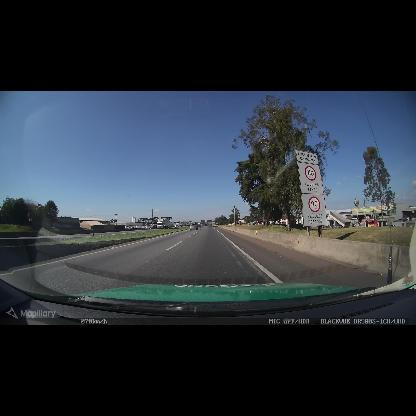I-SA: (295, 149, 319, 165)
R-19: (297, 162, 328, 228)
